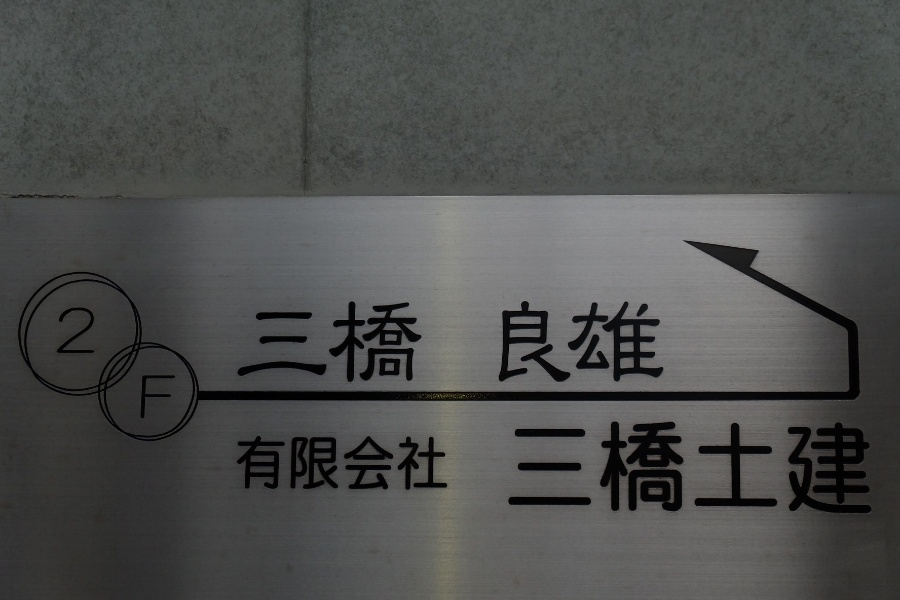text: (513, 422, 528, 519), (529, 422, 544, 519), (545, 422, 560, 519), (561, 422, 576, 519), (577, 422, 592, 519), (593, 422, 608, 519), (609, 422, 624, 519), (625, 422, 640, 519), (641, 422, 656, 519), (657, 422, 672, 519), (673, 422, 688, 519), (689, 422, 704, 519), (705, 422, 720, 519), (721, 422, 736, 519), (737, 422, 752, 519), (753, 422, 768, 519), (769, 422, 784, 519), (785, 422, 800, 519), (801, 422, 816, 519), (817, 422, 832, 519), (833, 422, 848, 519), (849, 422, 864, 519), (257, 300, 272, 385), (273, 300, 288, 385), (289, 300, 304, 385), (305, 300, 320, 385), (321, 300, 336, 385), (337, 300, 352, 385), (353, 300, 368, 385), (369, 300, 384, 385), (385, 300, 400, 385), (401, 300, 416, 385), (513, 301, 528, 386), (529, 301, 544, 386), (545, 301, 560, 386), (561, 301, 576, 386), (577, 301, 592, 386), (593, 301, 608, 386), (609, 301, 624, 386), (625, 301, 640, 386), (641, 301, 656, 386), (500, 301, 512, 386), (241, 433, 256, 493), (257, 433, 272, 493), (273, 433, 288, 493), (289, 433, 304, 493), (305, 433, 320, 493), (321, 433, 336, 493), (337, 433, 352, 493), (353, 433, 368, 493), (369, 433, 384, 493), (385, 433, 400, 493), (401, 433, 416, 493), (417, 433, 432, 493), (433, 433, 448, 493), (865, 422, 874, 519), (81, 305, 97, 357), (65, 305, 80, 357), (145, 373, 160, 423), (161, 373, 176, 423), (657, 301, 665, 386), (231, 433, 240, 493), (417, 300, 422, 385), (449, 433, 455, 493), (139, 373, 144, 423), (60, 305, 64, 357), (255, 300, 256, 385)
